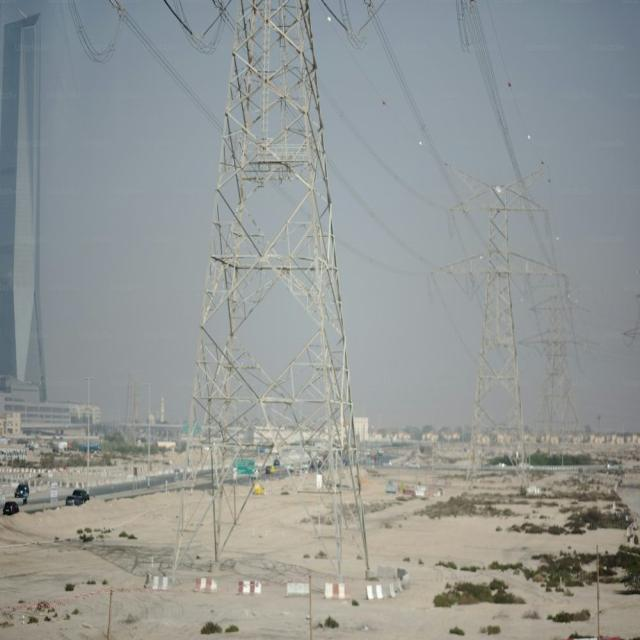transmission tower: (159, 0, 389, 449), (435, 160, 568, 435)
